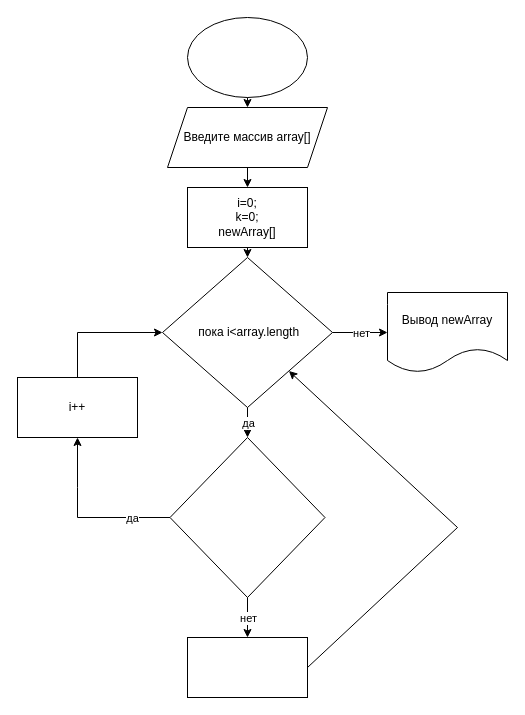
This 525x715 diagram has some shape labels left out. Each missing label, with the centre of its shape:
"newArray[k]=array[i] i++ k++" belongs at (247,667).
"Если длина array[i] > 3" belongs at (247,517).
"Начало" belongs at (247,57).
